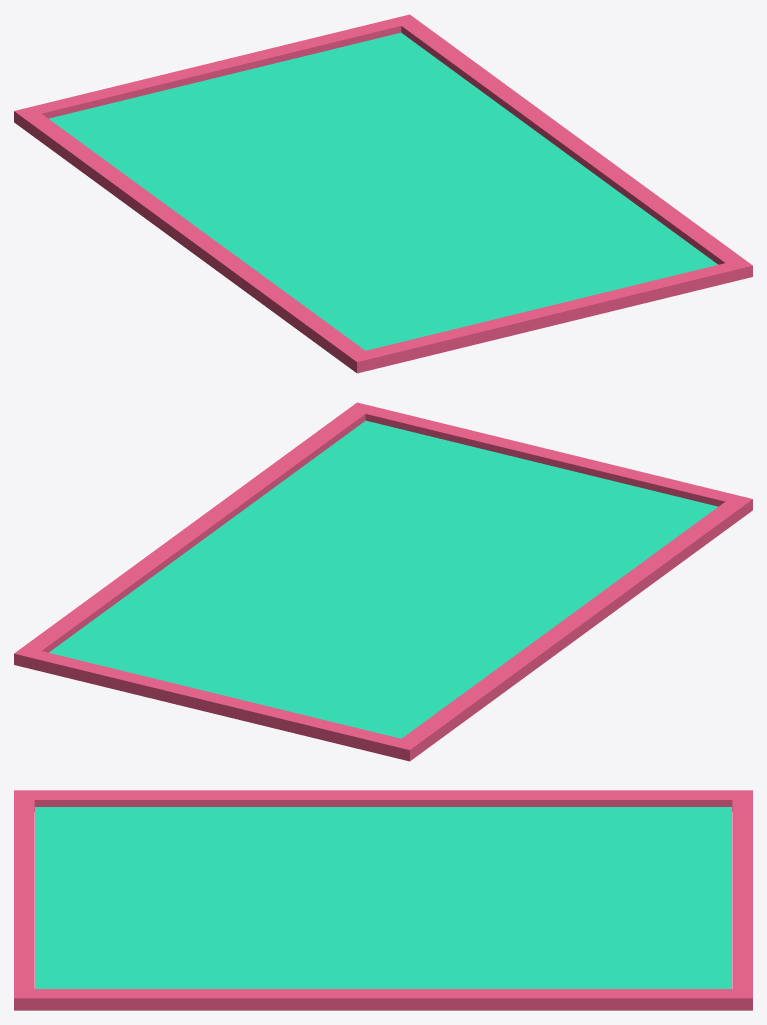
Rendered from PosterWithFrame.fbx.
The picture shows the model from 3 angles, top to bottom: view 1: azimuth 30°, elevation 25°; view 2: azimuth 150°, elevation 25°; view 3: azimuth 270°, elevation 25°; orthographic projection. The views are drawn at different scales.
Visible parts, largest first — view 1: PosterBase, PosterFrame; view 2: PosterBase, PosterFrame; view 3: PosterBase, PosterFrame.
Part boxes in pixels (left/top/right/bottom): PosterBase: left=49, top=32, right=717, bottom=350; PosterFrame: left=14, top=14, right=752, bottom=373; PosterBase: left=49, top=420, right=717, bottom=738; PosterFrame: left=14, top=402, right=752, bottom=761; PosterBase: left=35, top=807, right=731, bottom=988; PosterFrame: left=14, top=790, right=752, bottom=1010.
Bounding box in the file's own units: 55012 × 1501 × 82587.
